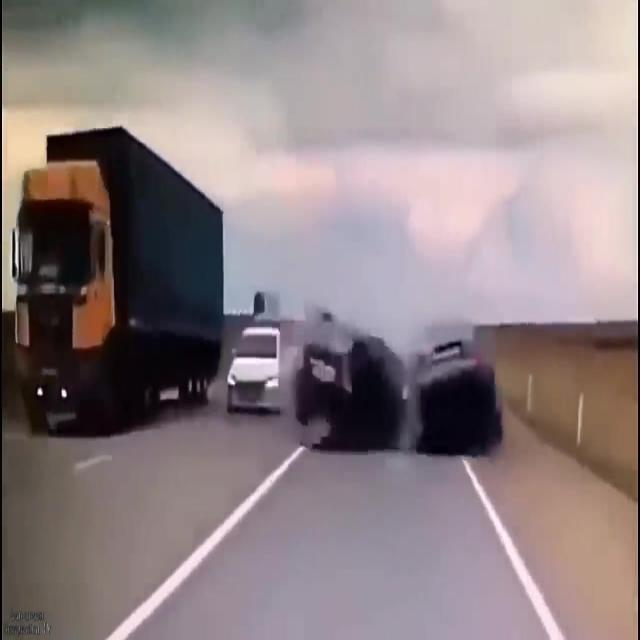accident: (303, 274, 517, 474)
